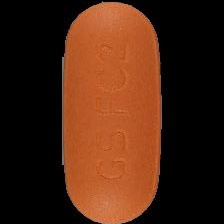50090-0874: (0, 0, 224, 224)
